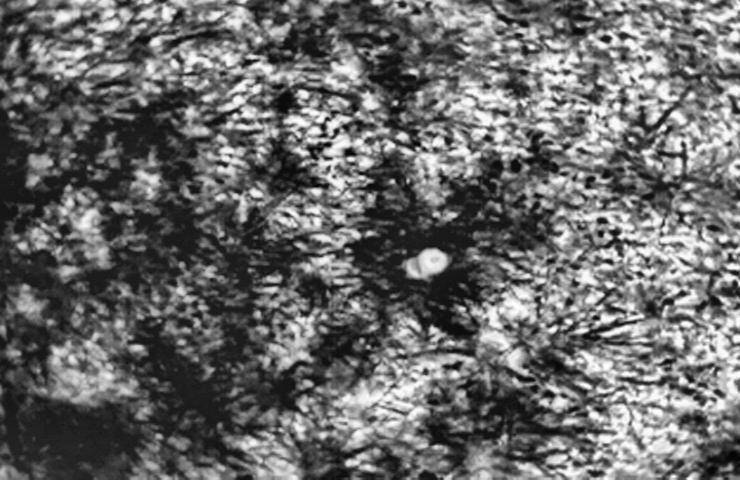landmines: (402, 241, 455, 283)
